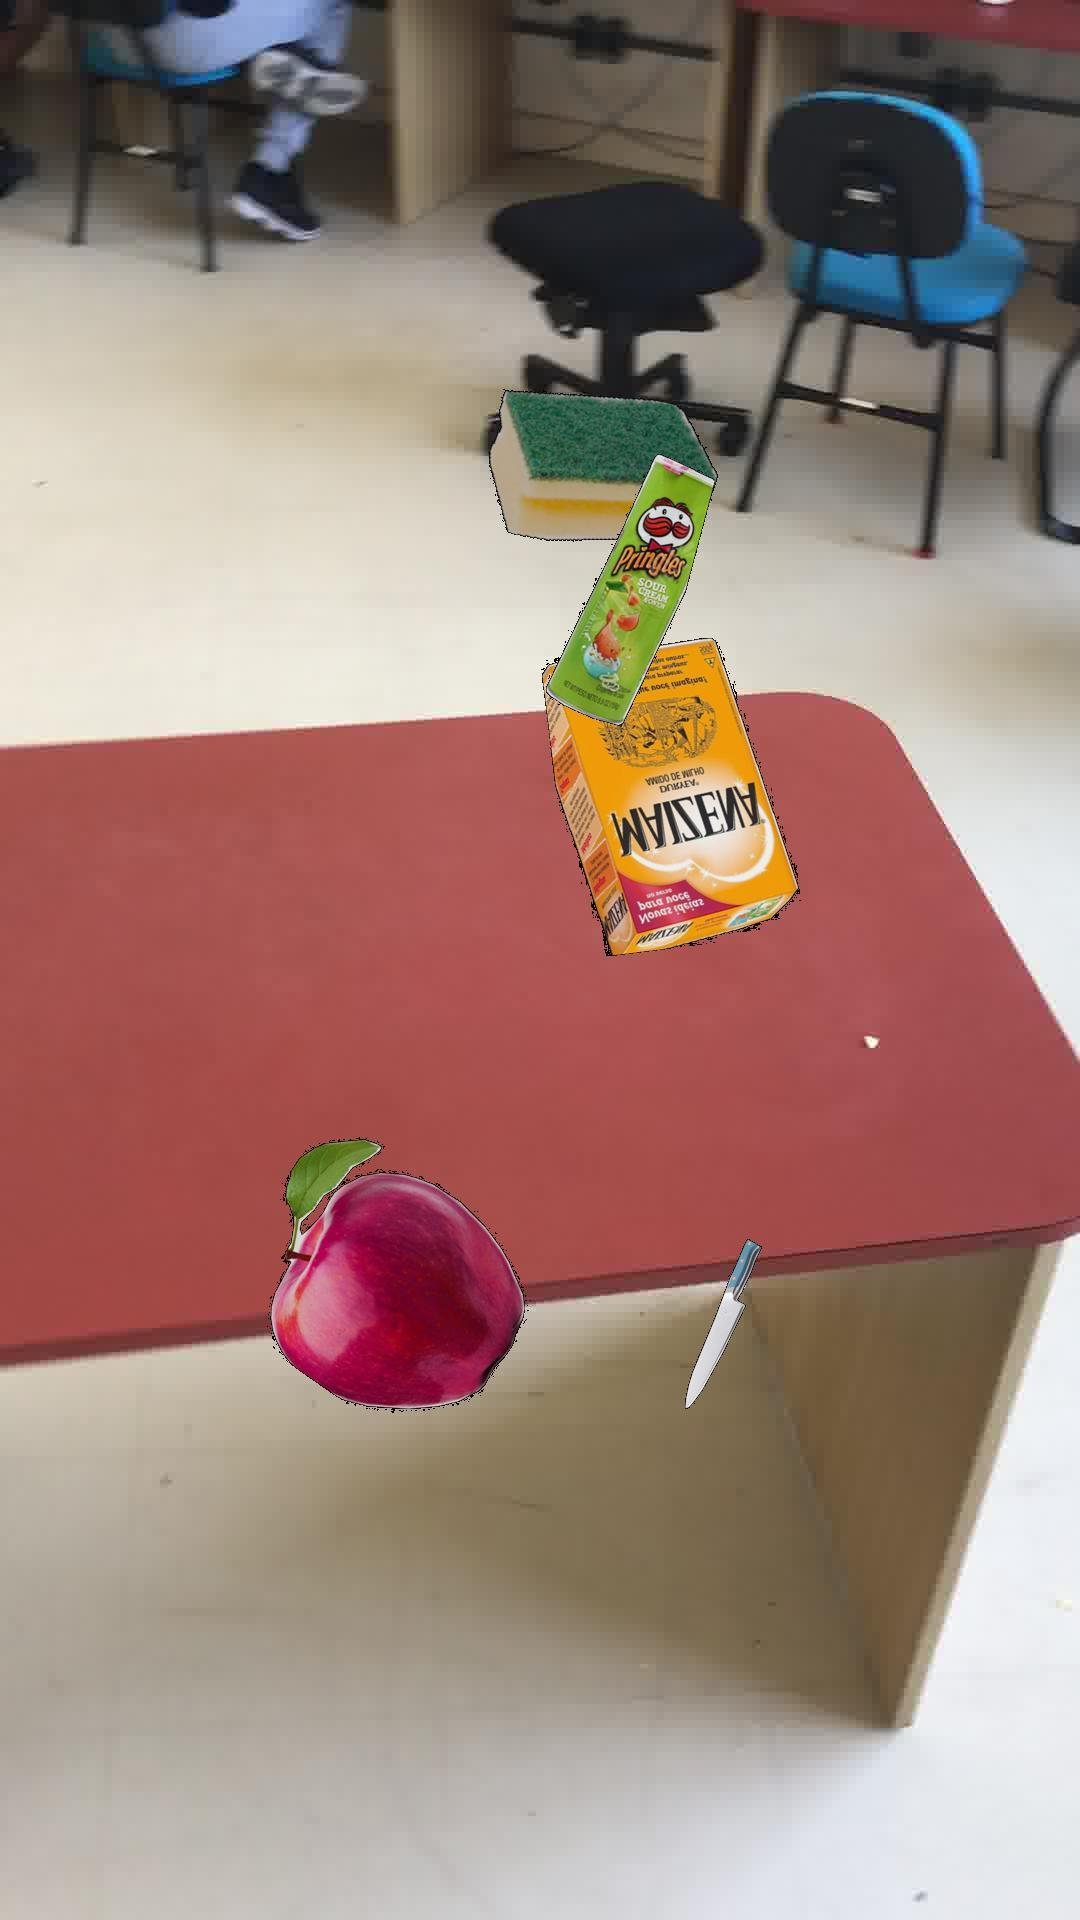apple: (269, 1135, 524, 1411)
knife: (683, 1237, 761, 1407)
pringles: (545, 452, 713, 724)
sponge: (488, 389, 716, 541)
